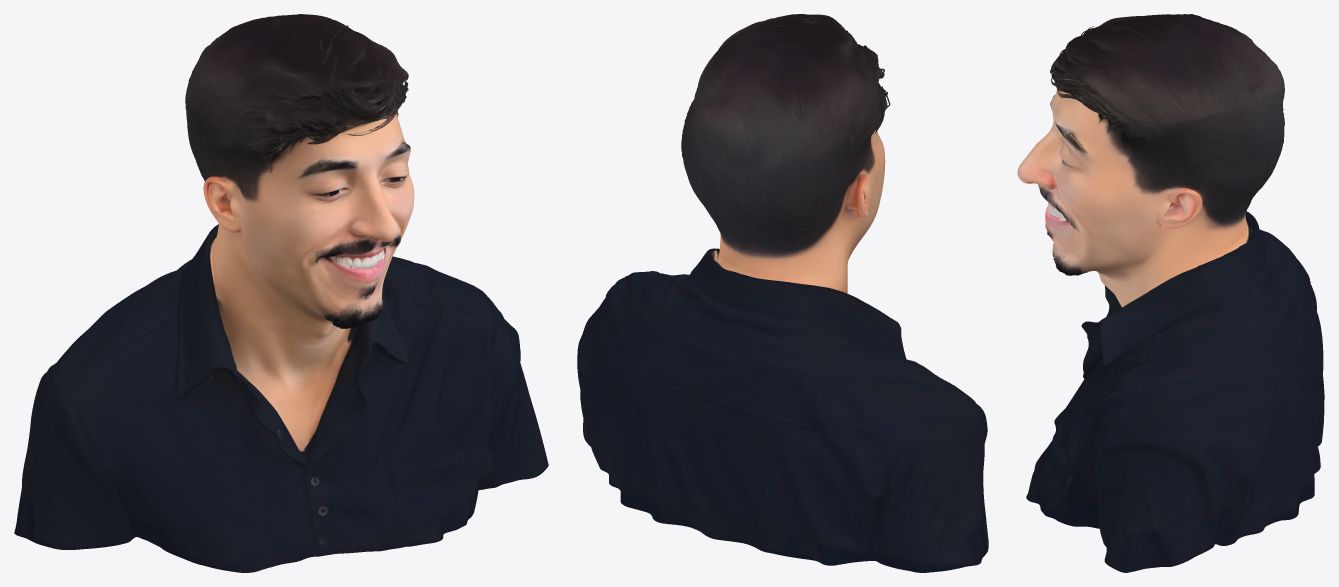
File: obj-samuel.desktop.glb
The picture shows the model from 3 angles, left to right: view 1: azimuth 30°, elevation 25°; view 2: azimuth 150°, elevation 25°; view 3: azimuth 270°, elevation 25°; orthographic projection. The views are drawn at different scales.
Size of the model in its own units: 1.9 by 1.84 by 1.14.
1 material, 1 textured.
